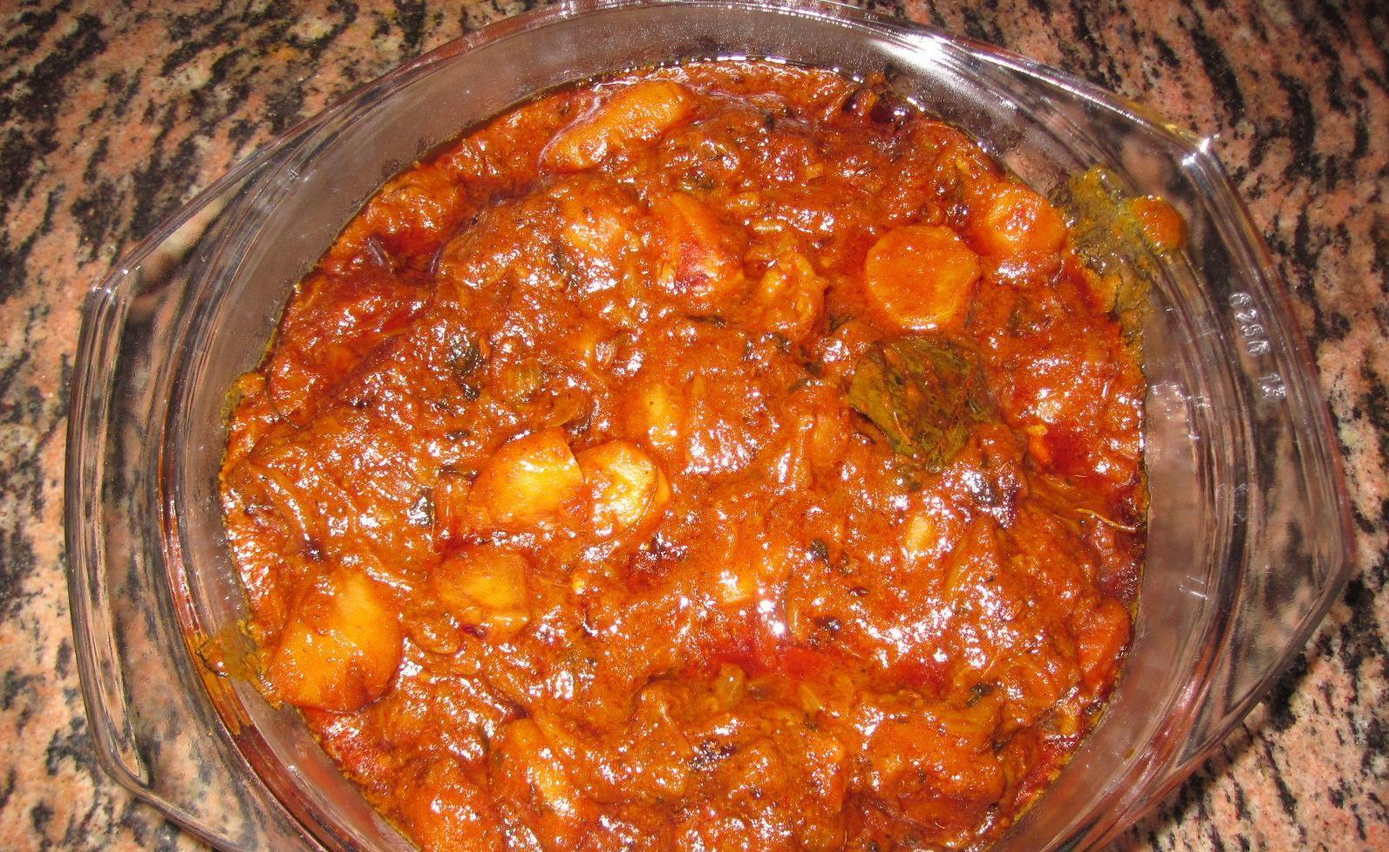DumAloo: (213, 56, 1148, 852)
